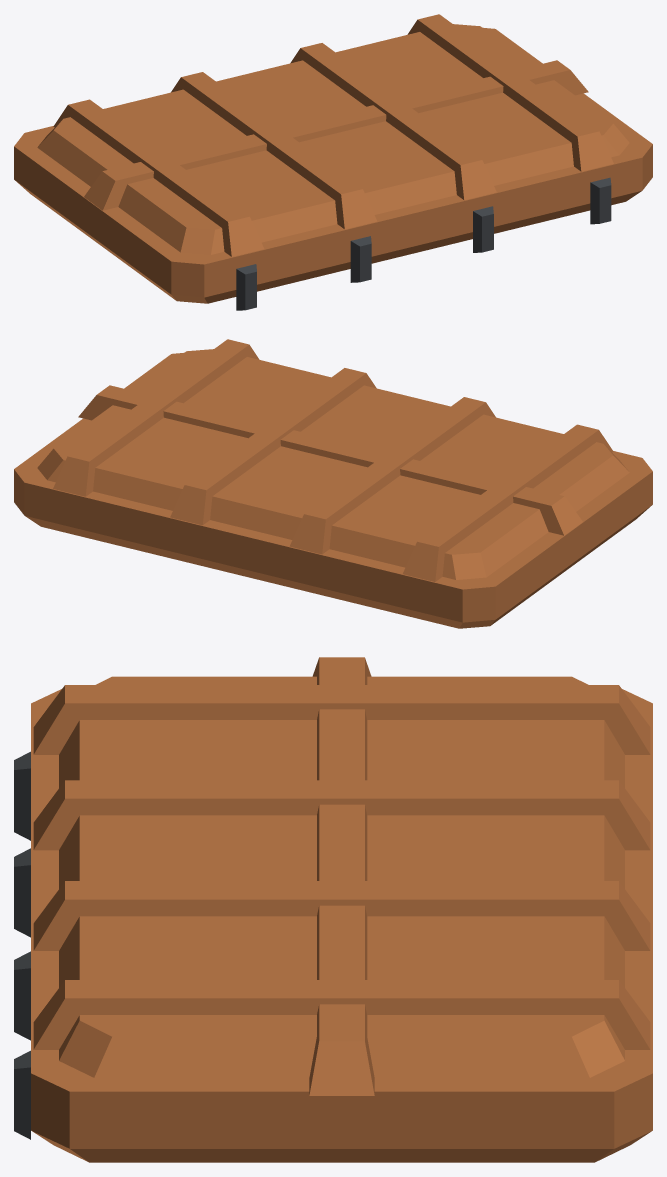
The model's file is SM_Prop_Crate_Plastic_Lid_02.fbx.
The picture shows the model from 3 angles, top to bottom: view 1: azimuth 30°, elevation 25°; view 2: azimuth 150°, elevation 25°; view 3: azimuth 270°, elevation 25°; orthographic projection. The views are drawn at different scales.
Visible parts, largest first — view 1: SM_Prop_Crate_Plastic_Lid_02; view 2: SM_Prop_Crate_Plastic_Lid_02; view 3: SM_Prop_Crate_Plastic_Lid_02.
Part boxes in pixels (left/top/right/bottom): SM_Prop_Crate_Plastic_Lid_02: left=14, top=14, right=652, bottom=310; SM_Prop_Crate_Plastic_Lid_02: left=14, top=339, right=652, bottom=628; SM_Prop_Crate_Plastic_Lid_02: left=14, top=657, right=652, bottom=1162.
Size of the model in its own units: 121 by 19.36 by 79.8.
